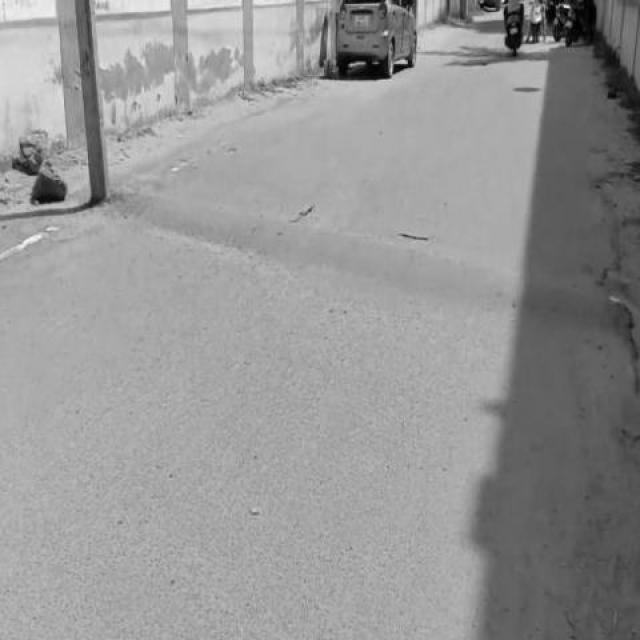Pothole: (508, 79, 549, 102)
Unmarked Bump: (113, 186, 608, 335)
